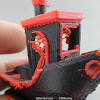Fail: (4, 1, 100, 100)
